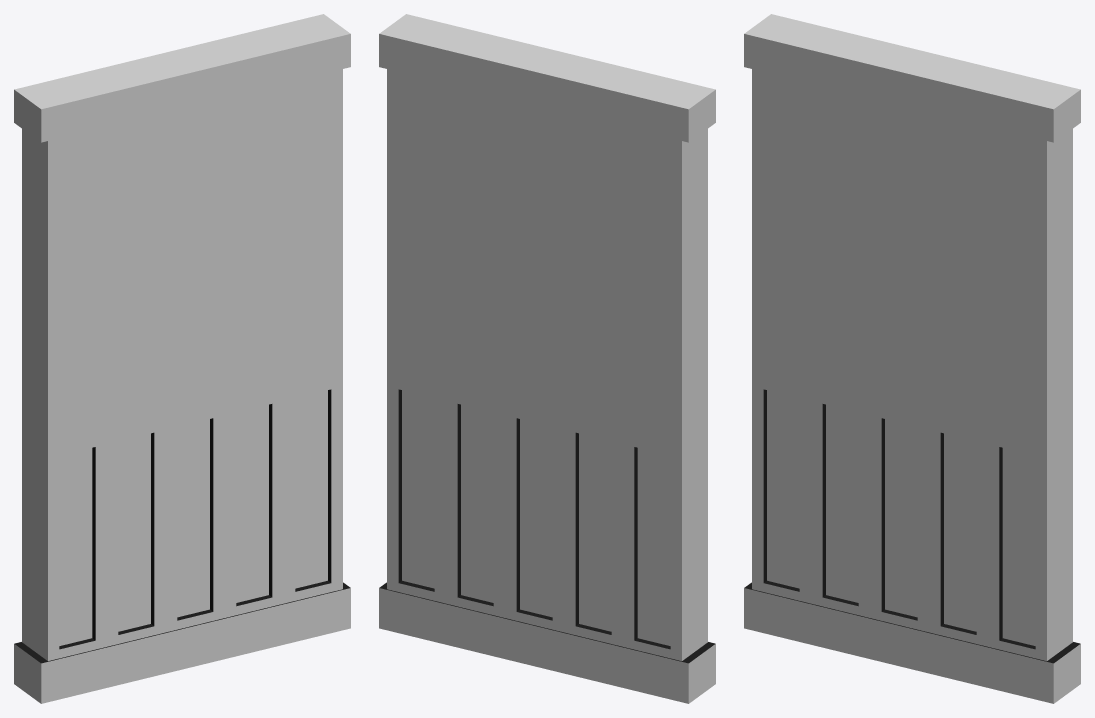
The model's file is Door White.fbx.
The picture shows the model from 3 angles, left to right: view 1: azimuth 30°, elevation 25°; view 2: azimuth 150°, elevation 25°; view 3: azimuth 330°, elevation 25°; orthographic projection.
Visible parts, largest first — view 1: Cube.001; view 2: Cube.001; view 3: Cube.001.
Boxes of the visible parts, left/top/right/bottom form: Cube.001: left=14, top=14, right=350, bottom=703; Cube.001: left=379, top=14, right=715, bottom=703; Cube.001: left=744, top=14, right=1080, bottom=703.
Bounding box in the file's own units: 326 × 598 × 49.34.
